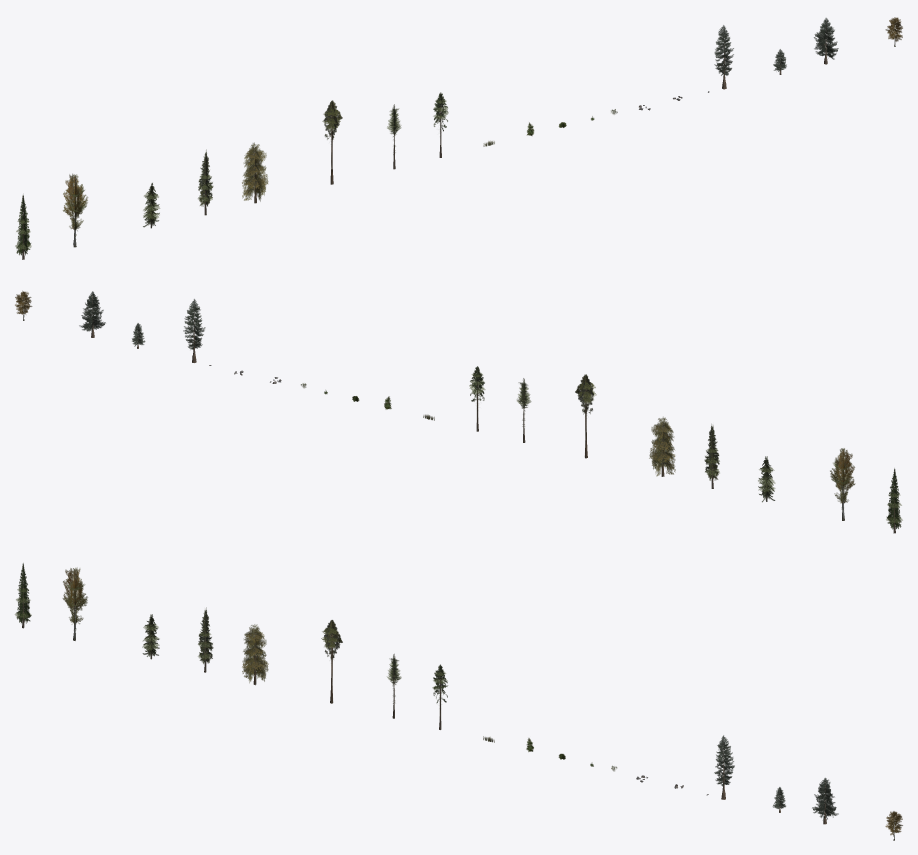
File: floresta.gltf
The picture shows the model from 3 angles, top to bottom: view 1: azimuth 30°, elevation 25°; view 2: azimuth 150°, elevation 25°; view 3: azimuth 330°, elevation 25°; orthographic projection.
Visible parts, largest first — view 1: floresta_4, floresta_1, floresta_16, floresta_18, floresta_0, floresta_5, floresta_3; view 2: floresta_4, floresta_1, floresta_16, floresta_18, floresta_5, floresta_0, floresta_3; view 3: floresta_4, floresta_1, floresta_16, floresta_18, floresta_5, floresta_0, floresta_3.
Boxes of the visible parts, x1,y1,x2,y2 form: floresta_4: (242,142,268,203); floresta_1: (63,173,87,247); floresta_16: (714,25,733,89); floresta_18: (814,18,838,64); floresta_0: (15,194,31,259); floresta_5: (322,100,342,184); floresta_3: (198,149,213,215); floresta_4: (649,417,675,476); floresta_1: (830,448,855,520); floresta_16: (183,299,205,362); floresta_18: (79,291,105,337); floresta_5: (575,374,596,458); floresta_0: (886,468,902,533); floresta_3: (704,424,719,488); floresta_4: (242,624,268,685); floresta_1: (62,567,87,640); floresta_16: (714,735,734,799); floresta_18: (812,778,838,824); floresta_5: (321,620,342,703); floresta_0: (15,563,31,628); floresta_3: (198,607,213,672).
Size of the model in its own units: 155 by 14 by 4.9.
7 materials, 7 textured.
